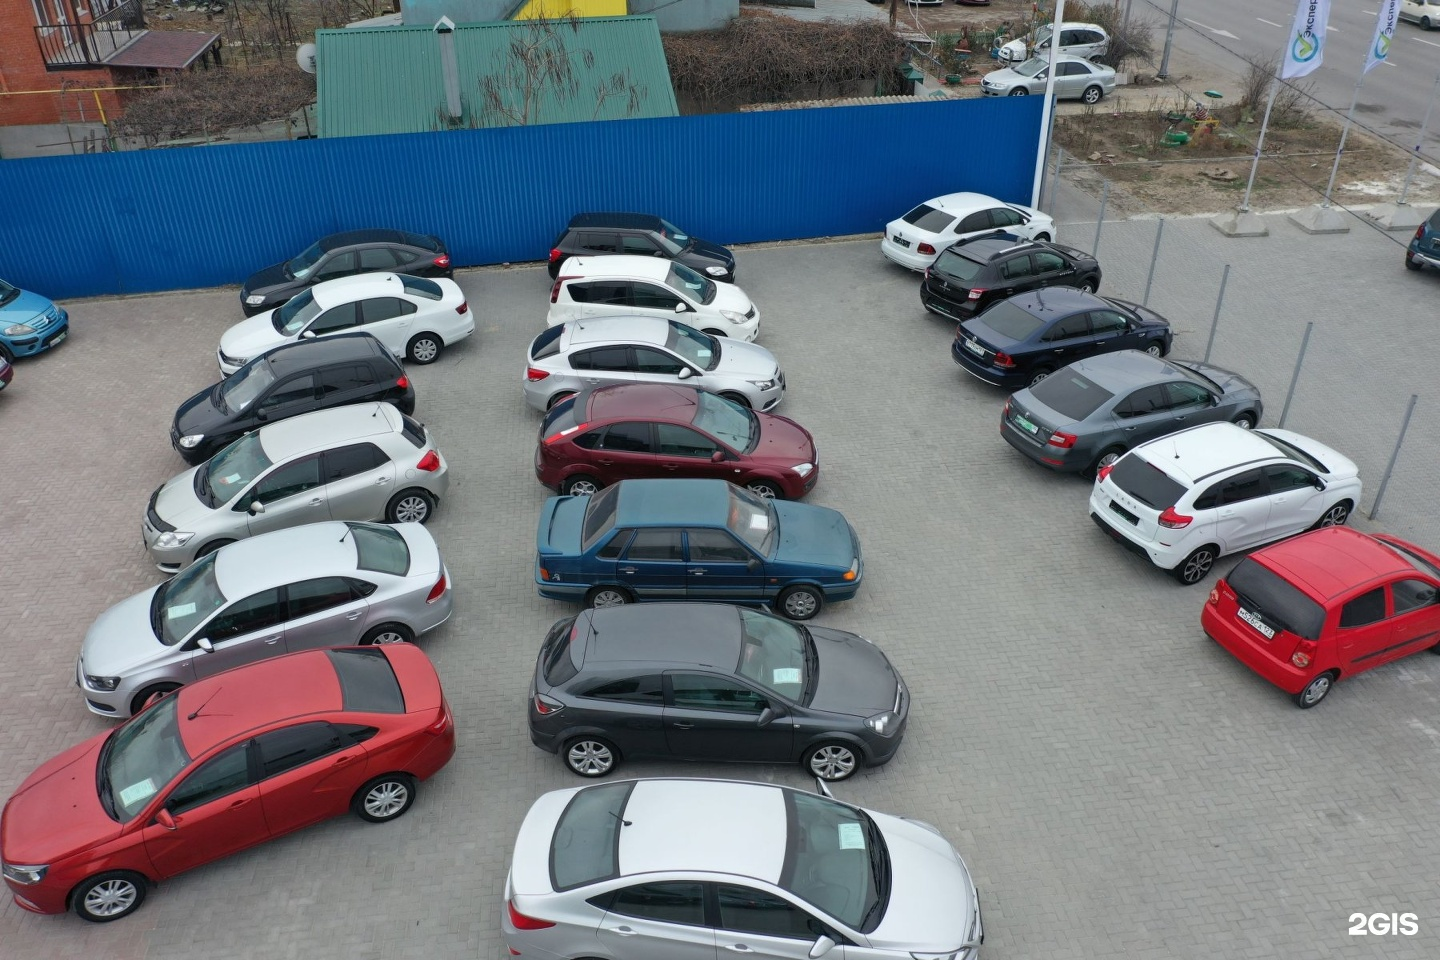Car: (0, 644, 456, 922), (502, 777, 984, 960), (76, 522, 452, 720), (527, 604, 910, 782), (142, 404, 451, 573), (535, 481, 864, 620), (1087, 423, 1362, 585), (1201, 527, 1440, 708), (1000, 351, 1263, 478), (535, 384, 819, 499), (170, 333, 416, 463), (216, 272, 475, 377), (523, 316, 787, 412), (951, 287, 1172, 389), (240, 229, 453, 315), (547, 256, 760, 342), (920, 234, 1102, 320), (881, 192, 1056, 273), (547, 212, 736, 281), (979, 54, 1115, 105), (0, 279, 70, 360), (997, 21, 1109, 66), (1405, 208, 1440, 270), (1398, 0, 1440, 30), (0, 355, 13, 391), (904, 0, 944, 7), (954, 0, 992, 7)
